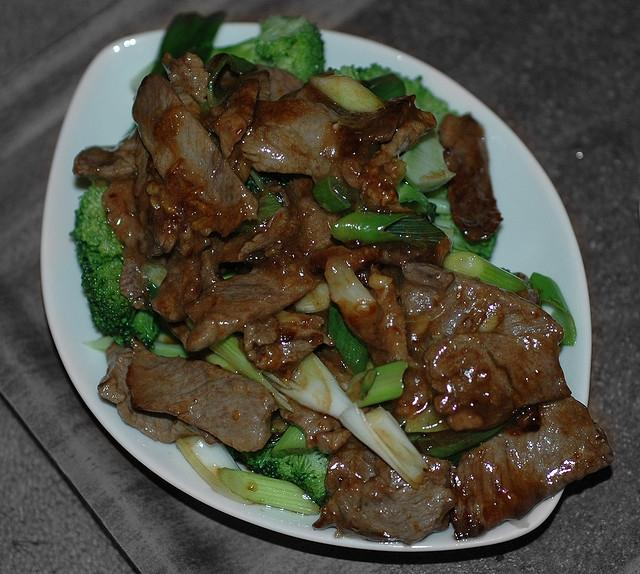broccoli: (224, 428, 331, 512), (201, 13, 326, 84), (391, 72, 460, 193), (77, 242, 137, 346), (69, 184, 124, 258), (430, 214, 502, 260), (234, 192, 284, 232), (244, 172, 310, 198), (124, 311, 160, 350), (326, 63, 391, 80)
